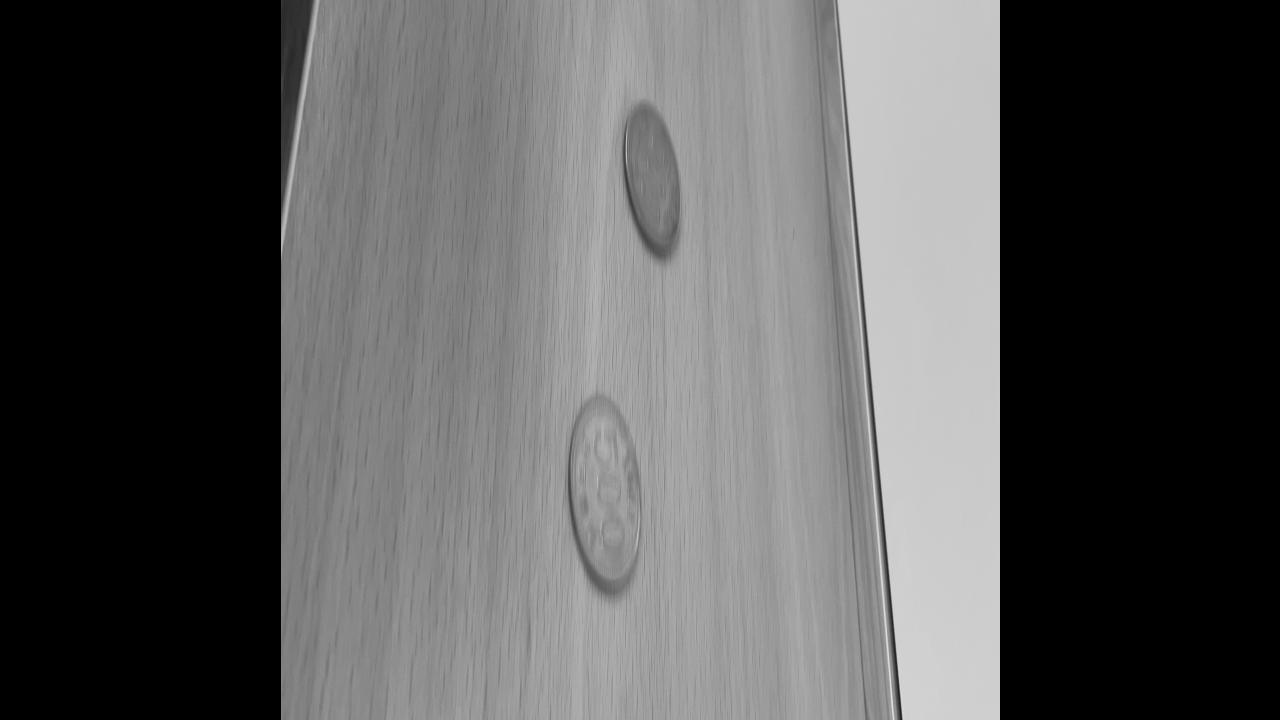coin: (565, 391, 645, 597), (622, 98, 682, 254)
